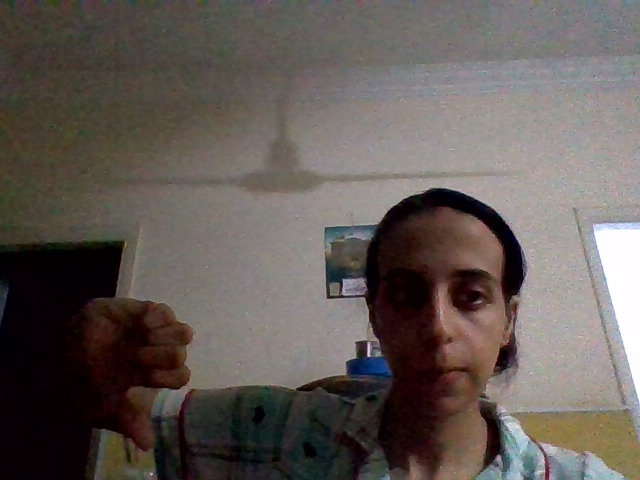ThumbsDown: (71, 296, 193, 451)
